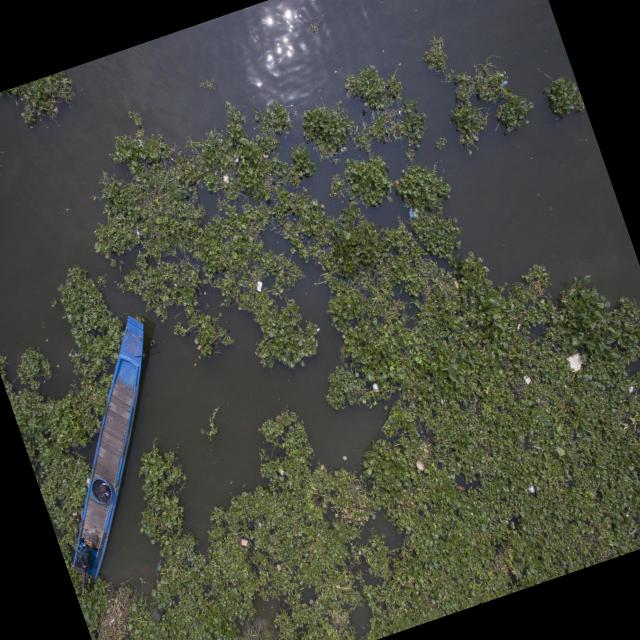Plastic: (564, 348, 586, 372), (405, 202, 421, 220), (524, 478, 538, 493), (414, 456, 425, 474), (253, 276, 265, 290), (220, 170, 232, 184), (370, 380, 381, 395), (521, 370, 532, 384), (239, 535, 249, 545), (278, 466, 286, 476)
